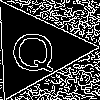Q: (10, 24, 56, 74)
